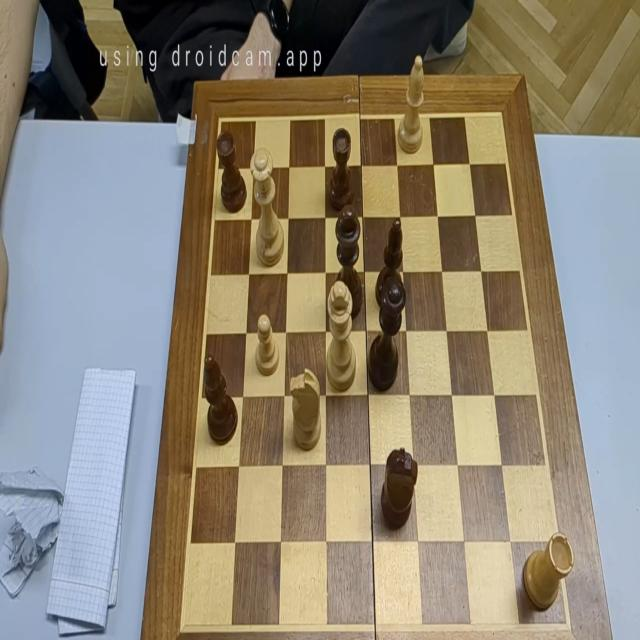black_bishop: (204, 353, 238, 446), (375, 218, 403, 308)
black_king: (335, 204, 362, 320)
black_knight: (381, 447, 418, 530)
black_queen: (368, 276, 406, 392)
black_rook: (216, 131, 247, 214), (329, 128, 355, 212)
white_bishop: (397, 55, 424, 154)
white_king: (326, 280, 356, 391)
white_knight: (290, 367, 322, 451)
white_pawn: (254, 314, 280, 376)
white_queen: (250, 148, 285, 266)
white_rook: (524, 532, 574, 610)
